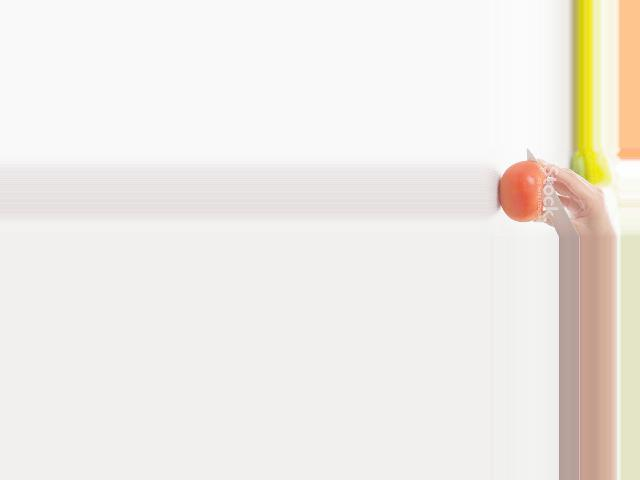tomato: (498, 160, 546, 223)
